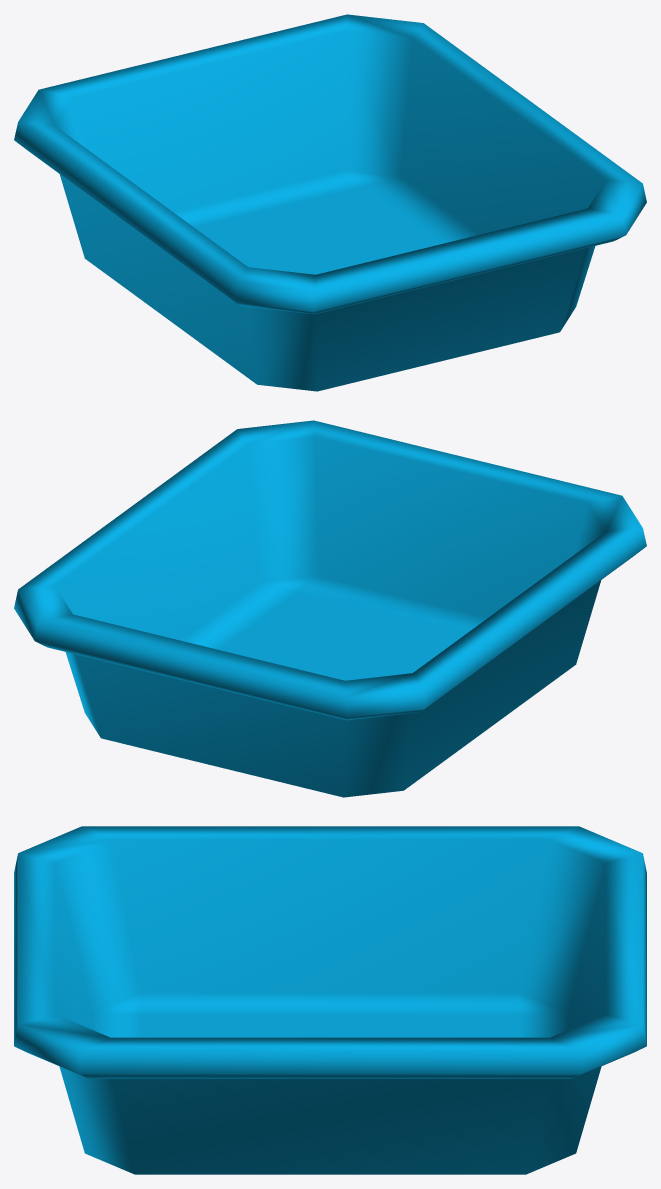
File: Kitchen_Sink_01_Lod1.fbx
3 renders of one model, top to bottom at view 1: azimuth 30°, elevation 25°; view 2: azimuth 150°, elevation 25°; view 3: azimuth 270°, elevation 25°, orthographic. The views are drawn at different scales.
Parts seen in each view (by area): view 1: Kitchen_Sink_01_Lod1; view 2: Kitchen_Sink_01_Lod1; view 3: Kitchen_Sink_01_Lod1.
Boxes of the visible parts, bbox=[...] form: Kitchen_Sink_01_Lod1: bbox=[14, 14, 646, 391]; Kitchen_Sink_01_Lod1: bbox=[14, 420, 646, 797]; Kitchen_Sink_01_Lod1: bbox=[14, 826, 646, 1174].
Bounding box in the file's own units: 61.58 × 18.61 × 72.36.
